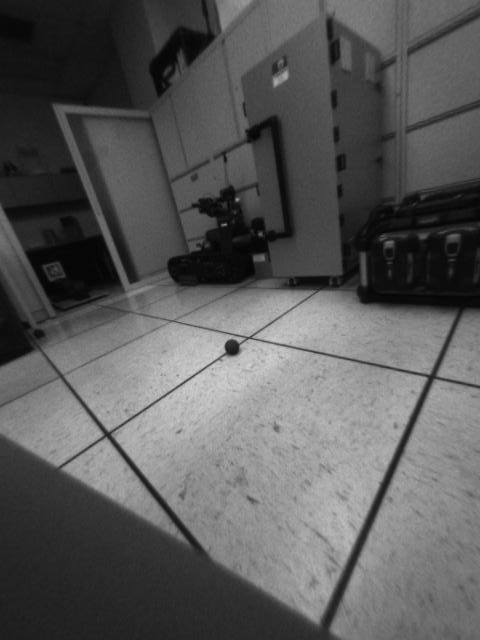dogtoy: (219, 332, 248, 361)
